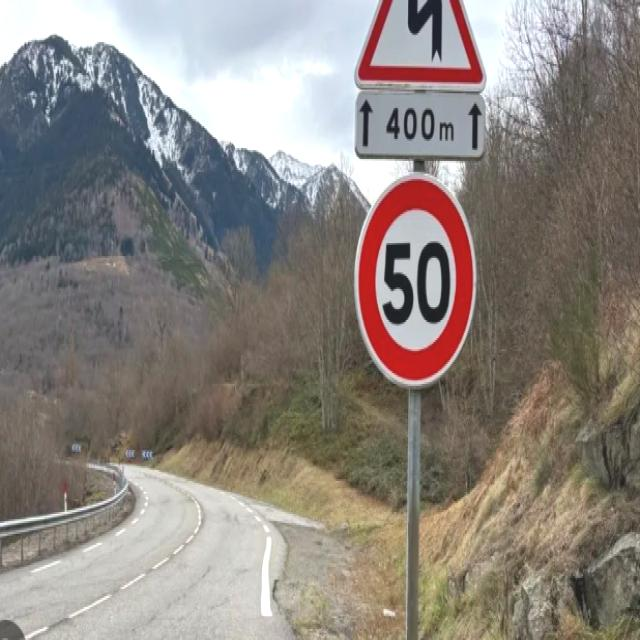speed_50: (352, 172, 478, 386)
